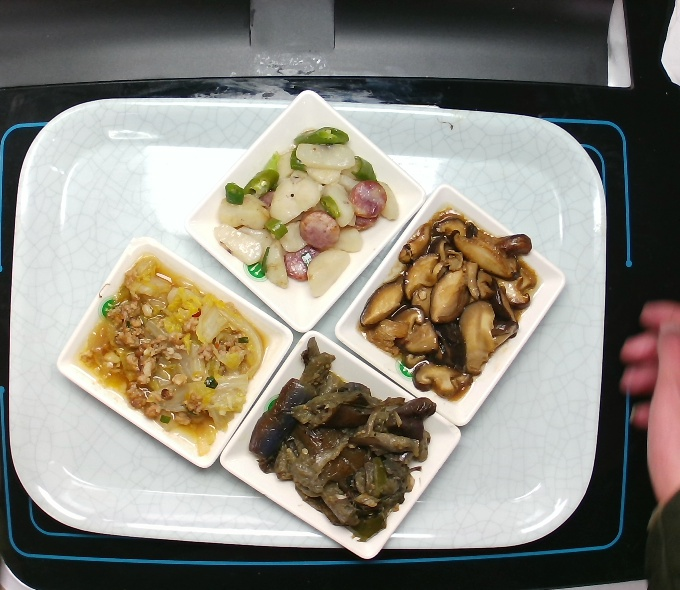wcq-MaTiGuo: (216, 121, 402, 296)
wcq-MoGu: (365, 214, 543, 391)
wcq-QieZi: (251, 338, 444, 540)
wcq-RouMoBaiCai: (92, 267, 255, 436)
